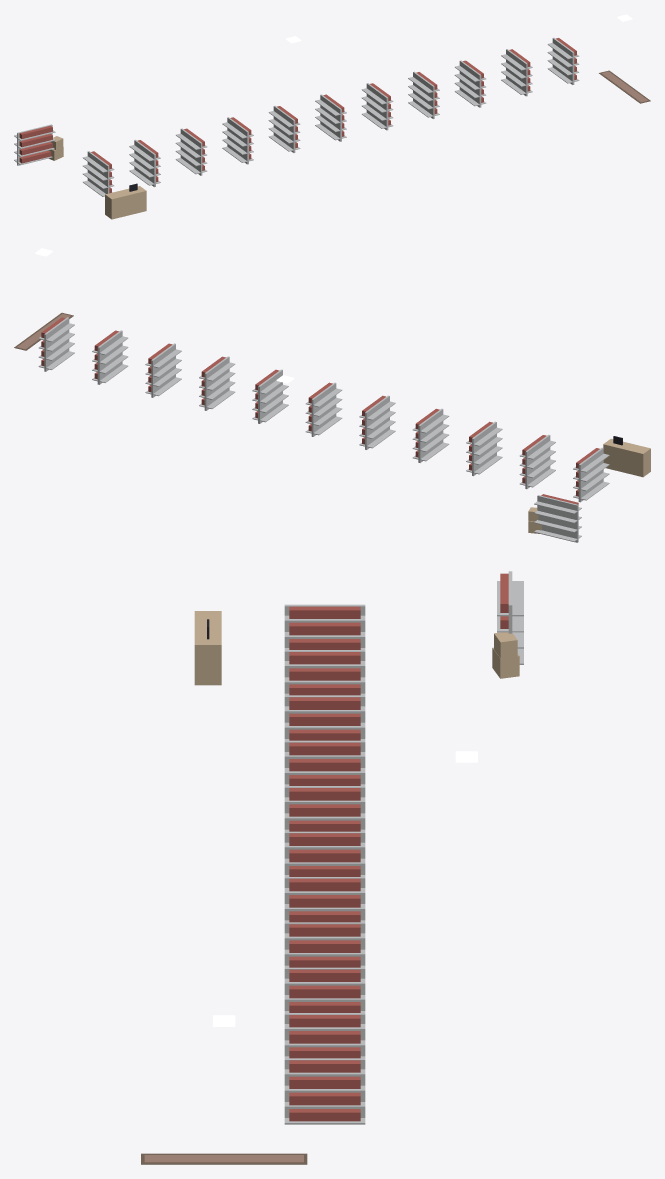
Rendered from fine-s0.glb.
3 renders of one model, top to bottom at view 1: azimuth 30°, elevation 25°; view 2: azimuth 150°, elevation 25°; view 3: azimuth 270°, elevation 25°, orthographic. The views are drawn at different scales.
Parts seen in each view (by area): view 1: shelving.000, shop-counter.000, shelf.009, shelf.003, shelf.010, shelf.004, shelf.008, shelf.002, shelf.006, shelf.005, shelf.001, shelf.007 (+2 smaller); view 2: shelving.000, shop-counter.000, shelf.003, shelf.005, shelf.001, shelf.010, shelf.009, shelf.007, shelf.000, shelf.008, shelf.004, shelf.002 (+2 smaller); view 3: shelf.010, shelf.002, shelf.004, shelf.007, shelf.000, shelf.001, shelf.003, shelf.005, shelf.006, shelf.008, shelf.009, shop-counter.000 (+3 smaller).
Part boxes in pixels (<box>): shelving.000: <box>14,124,55,165</box>; shop-counter.000: <box>105,183,146,219</box>; shelf.009: <box>501,49,532,96</box>; shelf.003: <box>222,117,253,164</box>; shelf.010: <box>547,37,579,84</box>; shelf.004: <box>268,106,300,152</box>; shelf.008: <box>454,60,486,107</box>; shelf.002: <box>175,128,207,175</box>; shelf.006: <box>361,83,393,130</box>; shelf.005: <box>315,94,346,141</box>; shelf.001: <box>129,139,160,187</box>; shelf.007: <box>408,71,439,118</box>; shelving.000: <box>534,494,581,542</box>; shop-counter.000: <box>603,436,650,477</box>; shelf.003: <box>412,408,449,462</box>; shelf.005: <box>305,382,342,436</box>; shelf.001: <box>519,434,555,489</box>; shelf.010: <box>38,317,74,371</box>; shelf.009: <box>92,330,128,384</box>; shelf.007: <box>199,356,235,410</box>; shelf.000: <box>573,447,609,502</box>; shelf.008: <box>145,343,181,397</box>; shelf.004: <box>359,395,395,449</box>; shelf.002: <box>466,421,502,476</box>; shelf.010: <box>284,1058,365,1124</box>; shelf.002: <box>284,695,365,740</box>; shelf.004: <box>284,786,365,831</box>; shelf.007: <box>284,922,365,967</box>; shelf.000: <box>284,604,365,649</box>; shelf.001: <box>284,650,365,695</box>; shelf.003: <box>284,740,365,785</box>; shelf.005: <box>284,831,365,876</box>; shelf.006: <box>284,877,365,922</box>; shelf.008: <box>284,967,365,1012</box>; shelf.009: <box>284,1013,365,1058</box>; shop-counter.000: <box>194,611,221,685</box>.
Bounding box in the file's own units: 27.95 × 3.44 × 8.56.
